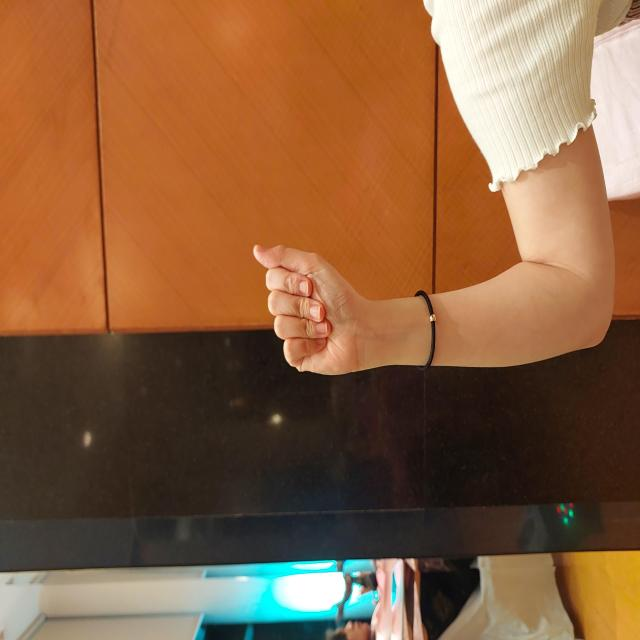A: (263, 252, 398, 365)
